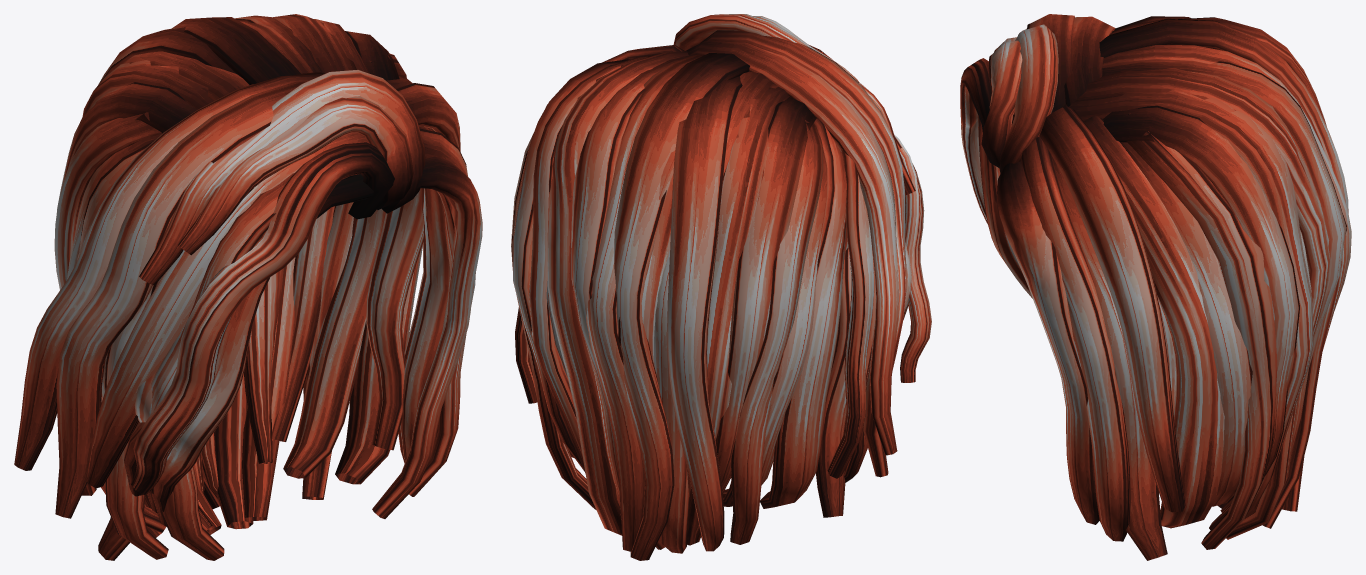
Rendered from hat.glb.
The picture shows the model from 3 angles, left to right: view 1: azimuth 30°, elevation 25°; view 2: azimuth 150°, elevation 25°; view 3: azimuth 270°, elevation 25°; orthographic projection. The views are drawn at different scales.
Parts seen in each view (by area): view 1: Body.001_0; view 2: Body.001_0; view 3: Body.001_0.
Boxes of the visible parts, x1,y1,x2,y2 form: Body.001_0: (14,14,482,560); Body.001_0: (511,14,931,560); Body.001_0: (960,14,1351,560).
Bounding box in the file's own units: 2.52 × 2.96 × 2.11.
Materials: 1 (1 with a texture image).
